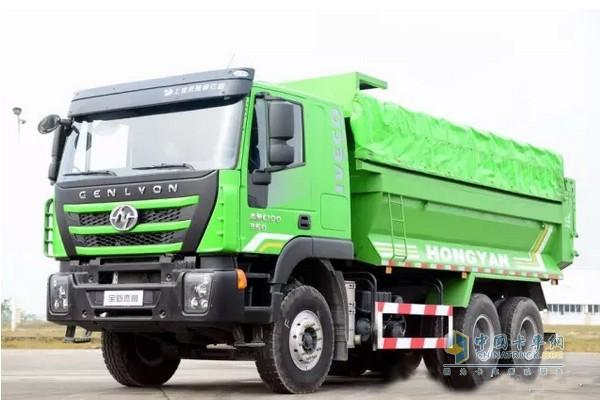truck: (24, 53, 575, 399)
